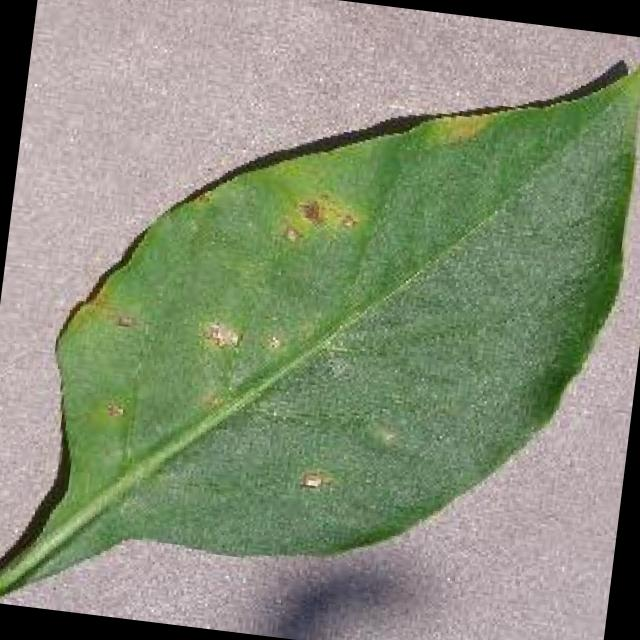Chilli_Bacterial_Spot: (0, 0, 640, 640), (76, 152, 444, 524), (271, 182, 366, 256), (356, 411, 408, 458), (192, 312, 245, 355), (291, 191, 328, 230), (98, 394, 129, 425), (294, 466, 327, 494), (334, 206, 362, 234), (276, 219, 304, 247)
